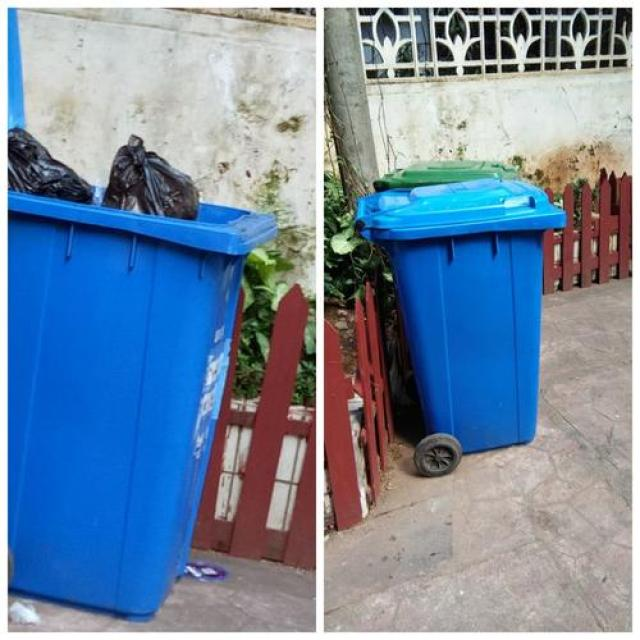garbage_bin: (354, 178, 564, 452)
overflow: (8, 126, 276, 620)
